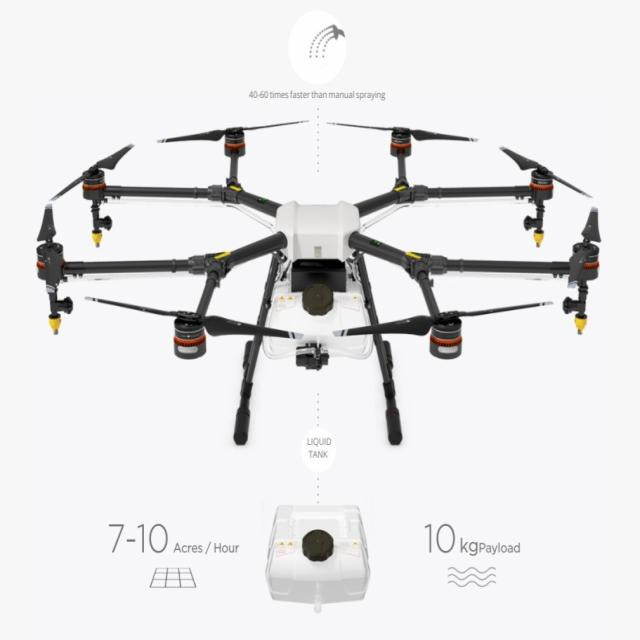drone: (26, 107, 640, 470)
